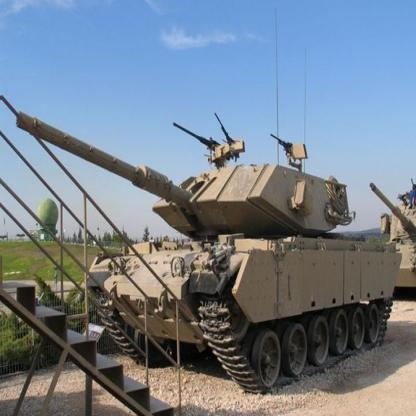Tank: (14, 100, 405, 384)
